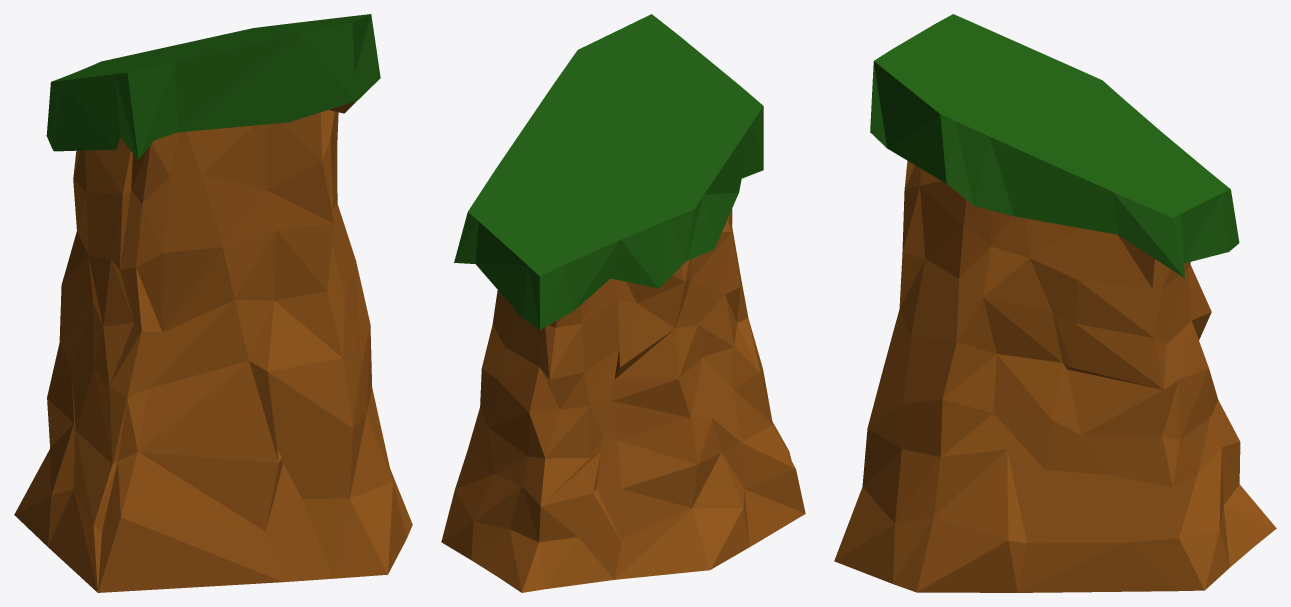
The model's file is loma_1.fbx.
3 views of the same model, side by side, from view 1: azimuth 30°, elevation 25°; view 2: azimuth 150°, elevation 25°; view 3: azimuth 270°, elevation 25° (orthographic). The views are drawn at different scales.
Parts seen in each view (by area): view 1: Line001; view 2: Line001; view 3: Line001.
Boxes of the visible parts, bbox=[...] form: Line001: bbox=[14, 14, 412, 592]; Line001: bbox=[441, 14, 805, 592]; Line001: bbox=[834, 14, 1276, 592].
Size of the model in its own units: 148 by 245 by 199.
